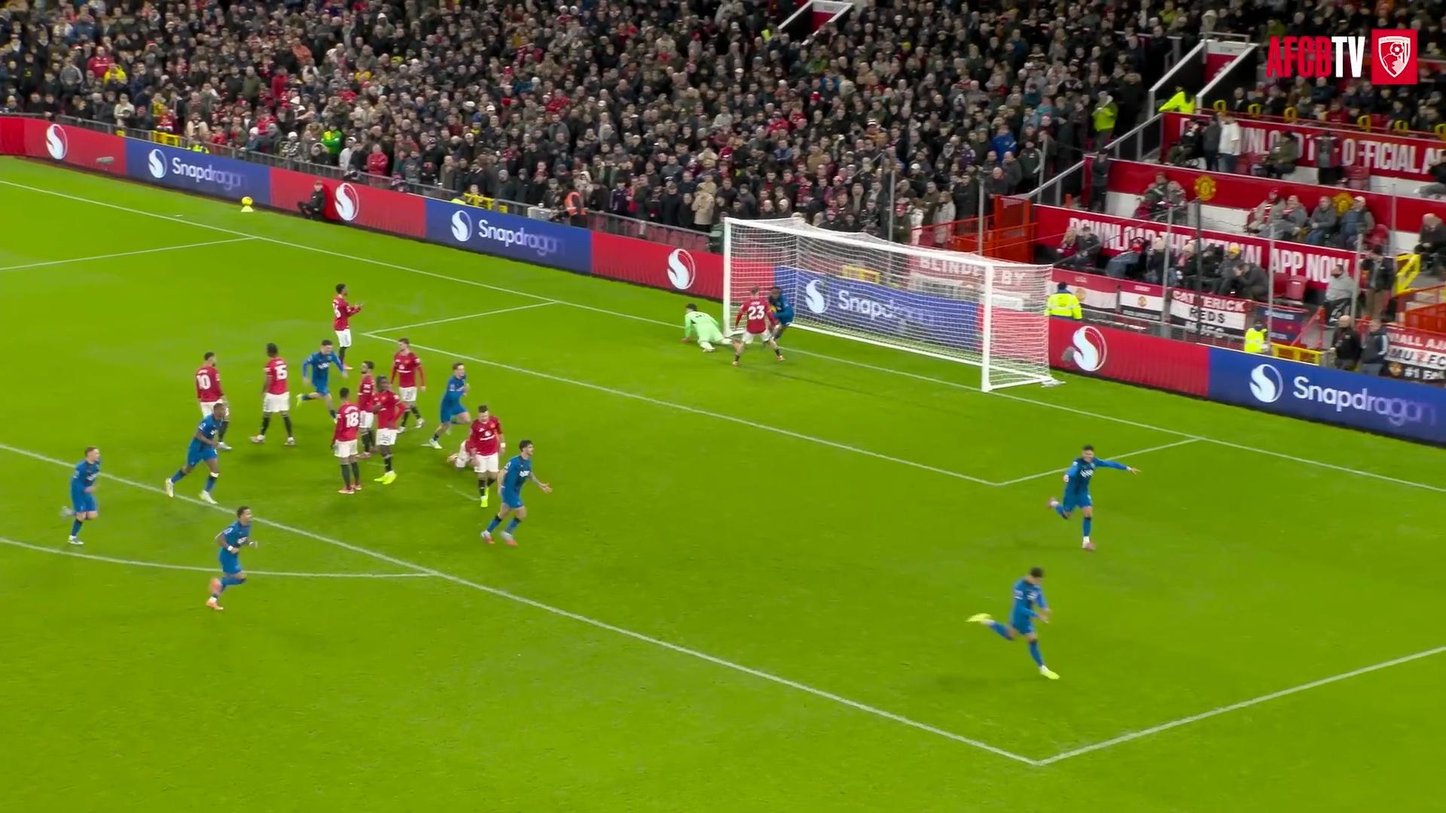player: (969, 567, 1057, 679), (1048, 445, 1138, 550), (481, 440, 551, 546), (163, 402, 227, 504), (447, 404, 505, 507), (206, 507, 256, 610), (251, 343, 294, 446), (733, 286, 783, 365), (427, 362, 471, 449), (61, 446, 100, 544), (373, 376, 405, 484), (297, 340, 340, 418), (391, 338, 425, 430), (333, 388, 362, 494), (332, 284, 362, 369), (682, 303, 725, 352), (194, 352, 224, 417), (356, 361, 375, 458), (767, 287, 794, 341)
